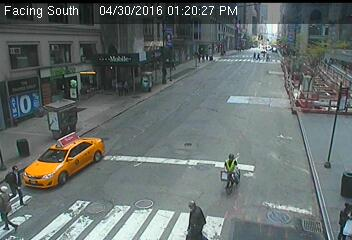neg: (223, 46, 261, 97), (268, 148, 302, 193), (54, 93, 84, 132), (119, 56, 148, 95), (303, 71, 331, 107), (141, 117, 168, 153), (108, 189, 132, 221)
pos: (213, 146, 246, 190), (177, 195, 206, 234), (8, 165, 35, 200)
